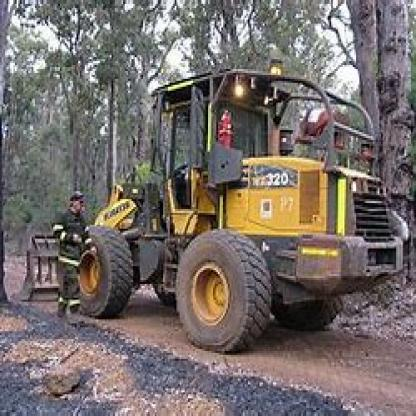bull_dozer/loader/grader: (12, 49, 409, 355)
